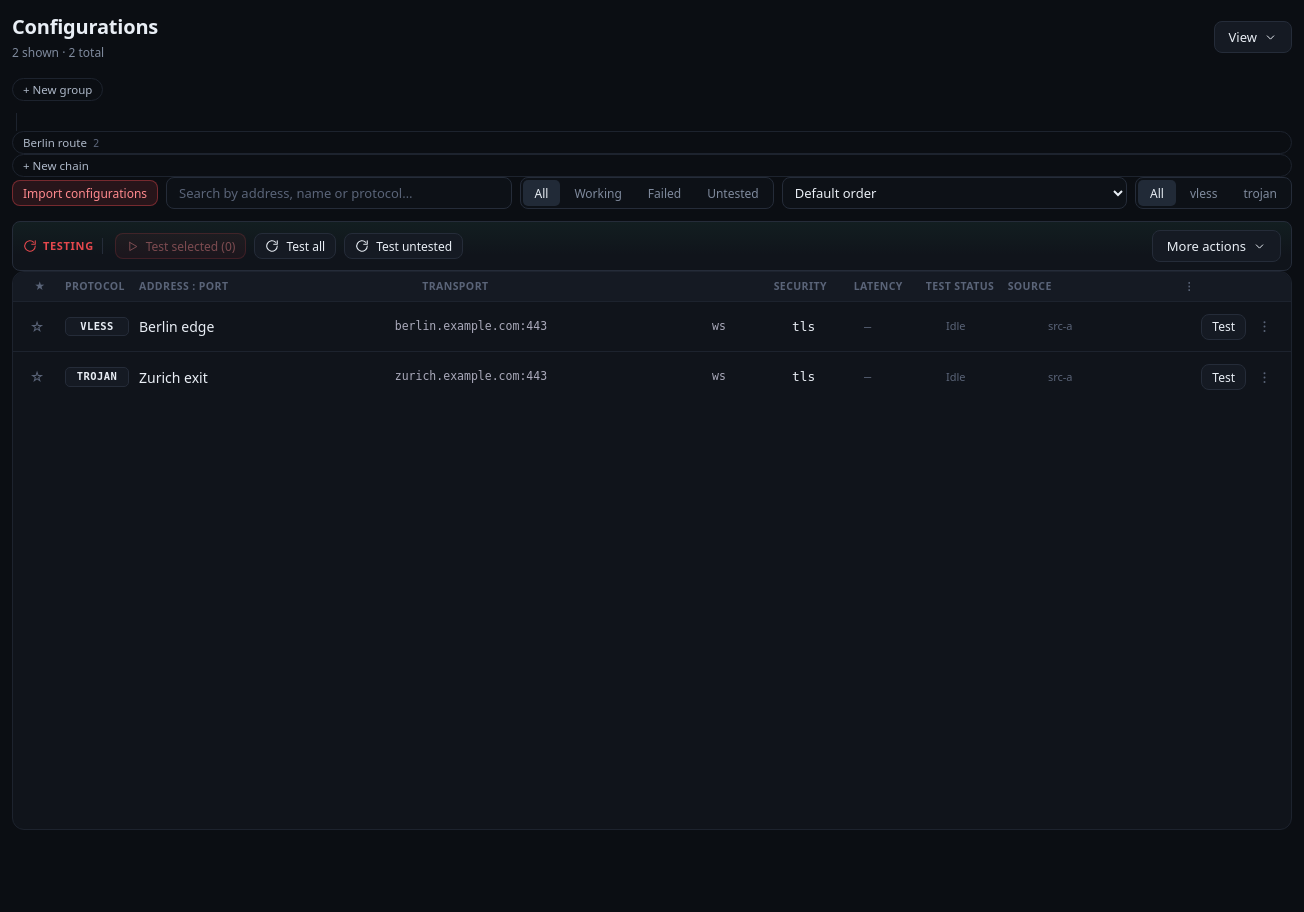
Test: Row menu chain actions (v0.12.2) › offers chain actions when multiple rows are selected
The image size is (1304, 912).
Check: the list named "Configurations" is shown, box [13, 302, 1291, 390]
// Select all via the keyboard shortcut.
Press a
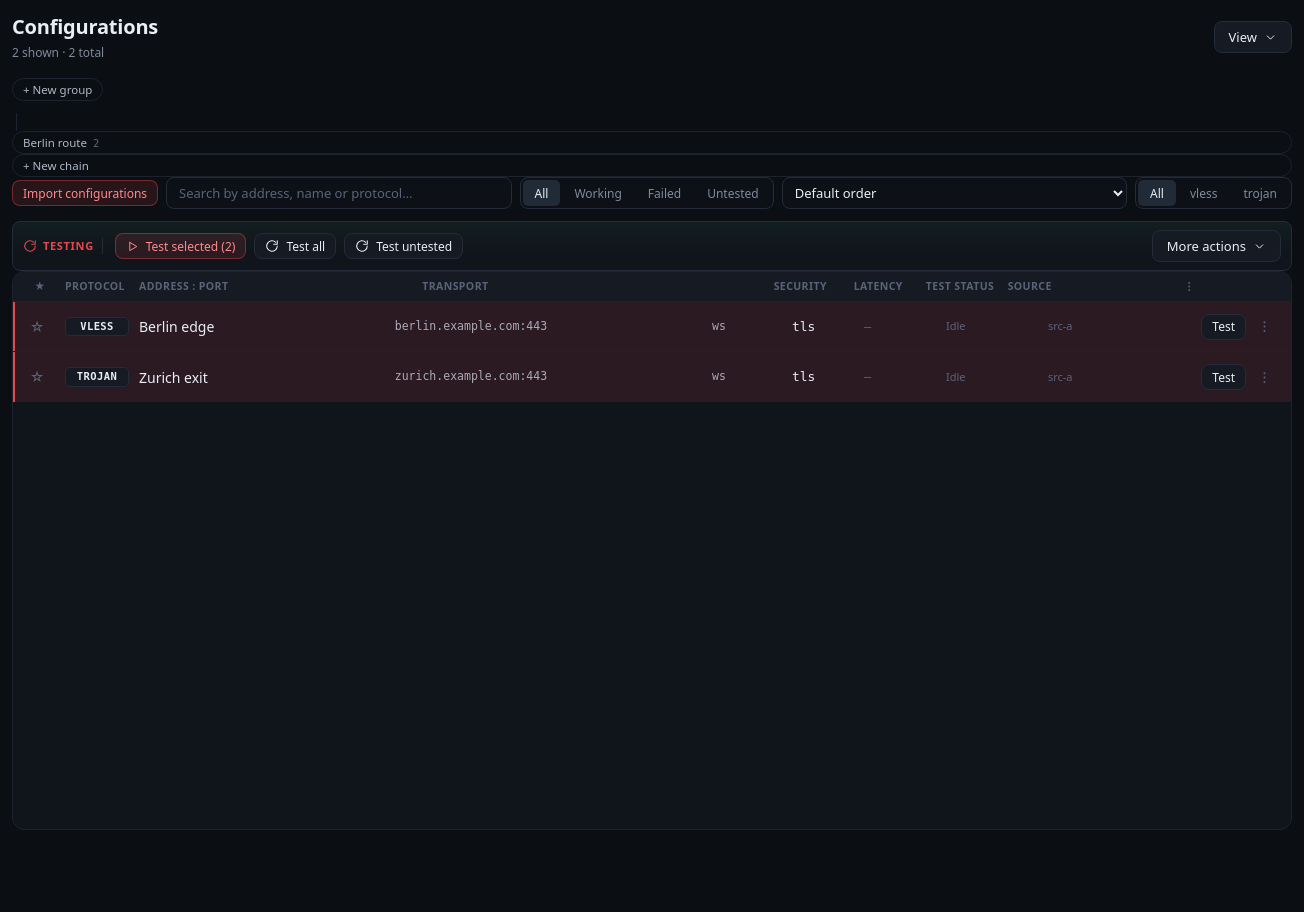
Right-click the list item that starts with "vless".
right_click(652, 327)  # box [13, 302, 1291, 352]
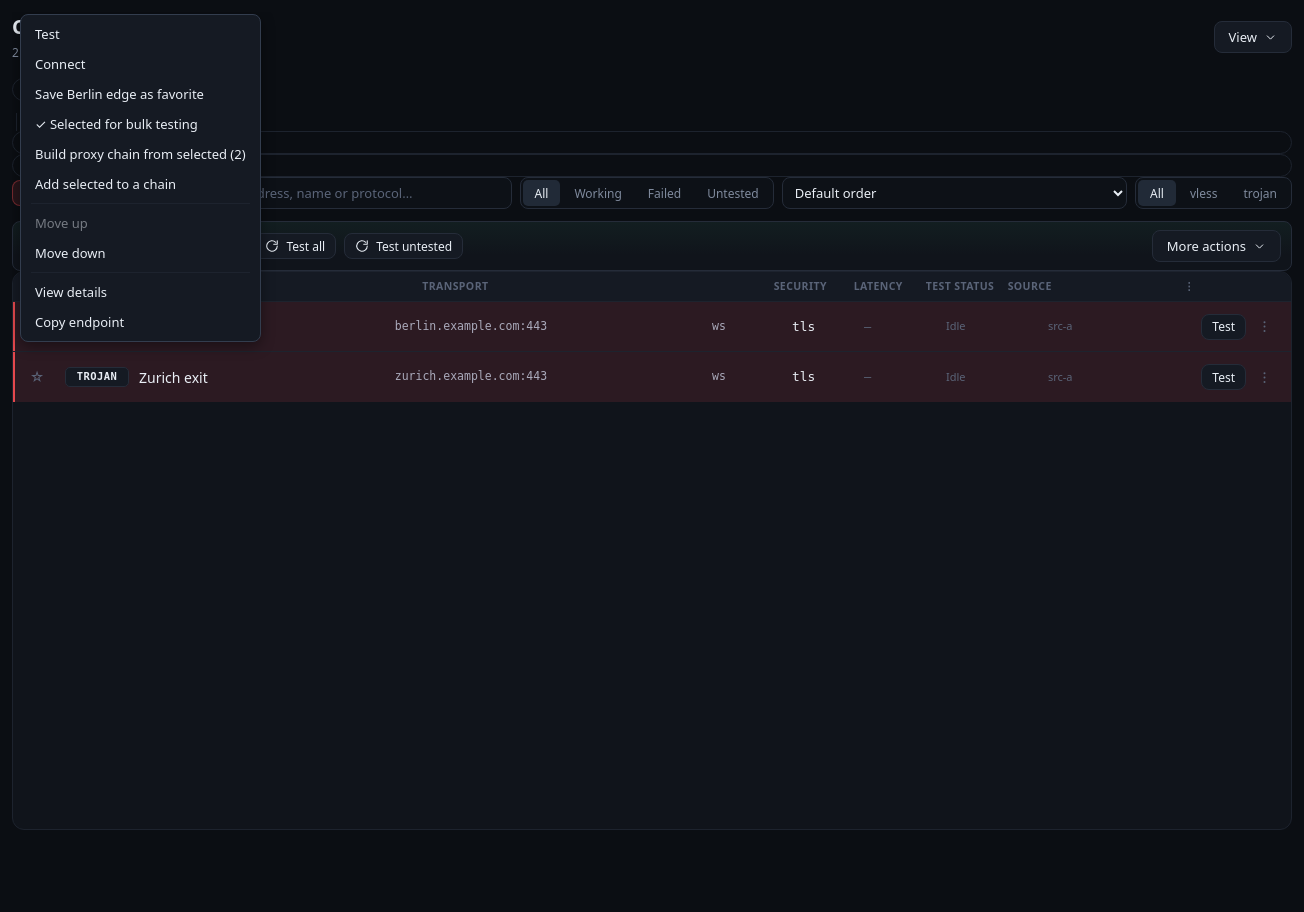
Check: the menu named "Configuration actions" is shown, box [20, 14, 261, 342]
Check: the menu item "Build proxy chain from selected (2)" is shown, box [25, 139, 256, 169]
